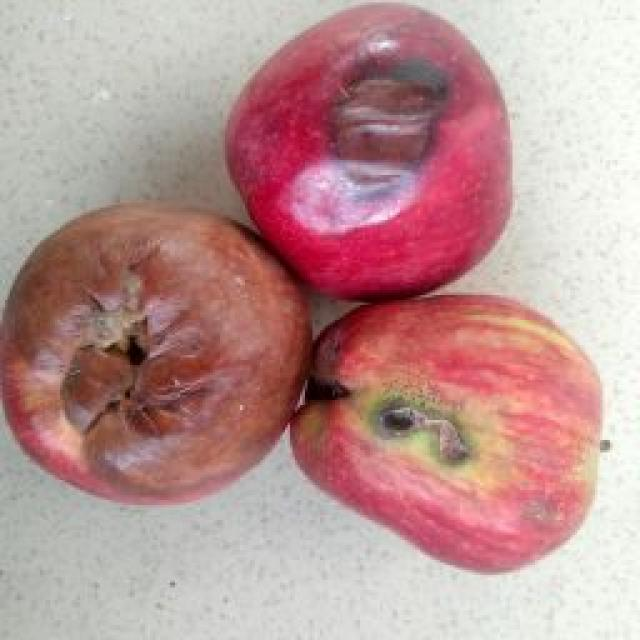Bad_Apple: (0, 204, 310, 503), (226, 4, 511, 298), (295, 296, 600, 569)
